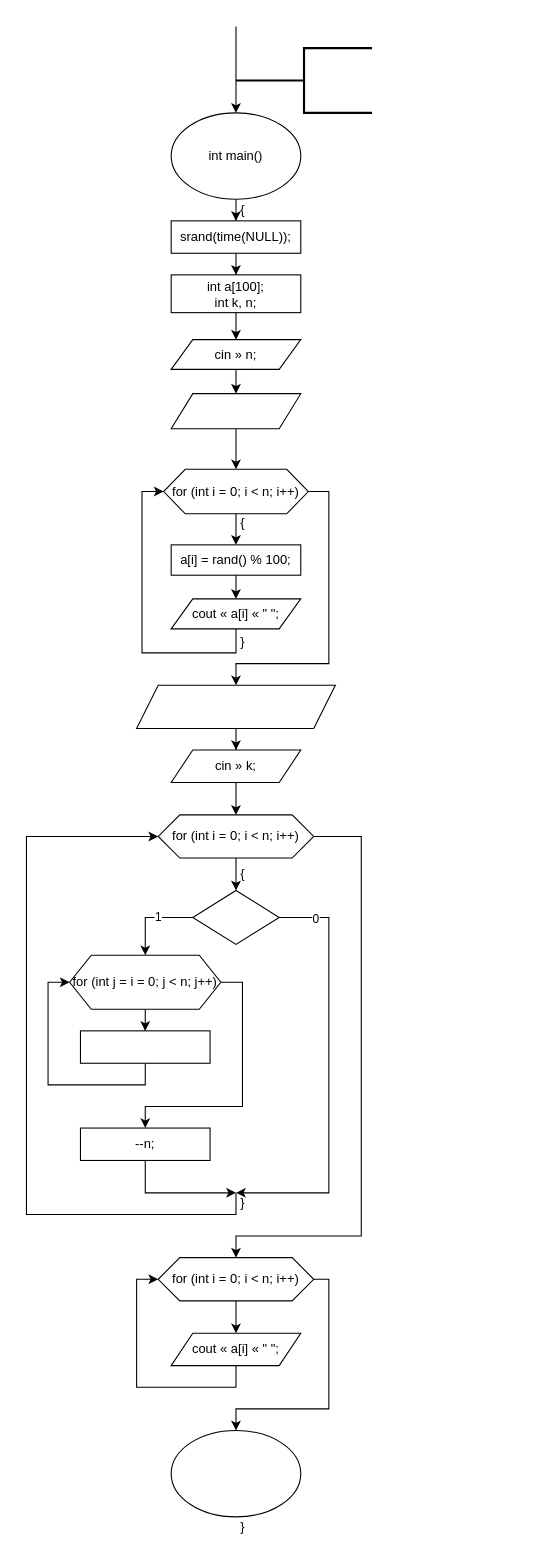
Image size: 548x1563. Some labels were removed from this diagram. The box of each missing label's shape, as (x1, y1, x2, y2) in pixels:
#include #include using namespace std; setlocale(LC_ALL, "RUS");: (234, 46, 373, 113)
a[j] = a[j + 1];: (79, 1030, 210, 1063)
cout « "введите число для удаления: ";: (136, 684, 335, 728)
cout « "Массив имеет вид: ";: (170, 393, 301, 429)
if (a[i] = k): (192, 889, 279, 944)
return 0;: (170, 1429, 301, 1517)
